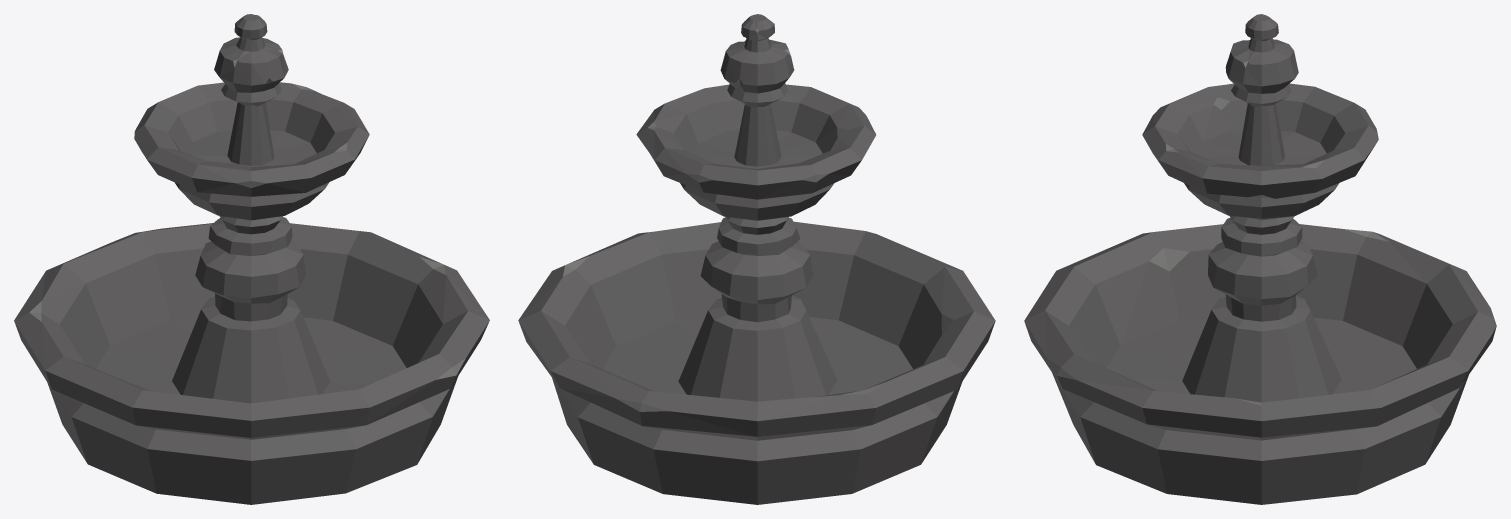
Rendered from SM_Prop_Fountain_01.fbx.
The picture shows the model from 3 angles, left to right: view 1: azimuth 30°, elevation 25°; view 2: azimuth 150°, elevation 25°; view 3: azimuth 270°, elevation 25°; orthographic projection.
Visible parts, largest first — view 1: SM_Prop_Fountain_01; view 2: SM_Prop_Fountain_01; view 3: SM_Prop_Fountain_01.
Boxes of the visible parts, x1,y1,x2,y2 form: SM_Prop_Fountain_01: (14, 14, 489, 504); SM_Prop_Fountain_01: (518, 14, 995, 504); SM_Prop_Fountain_01: (1024, 14, 1496, 504).
Size of the model in its own units: 160 by 152 by 160.
